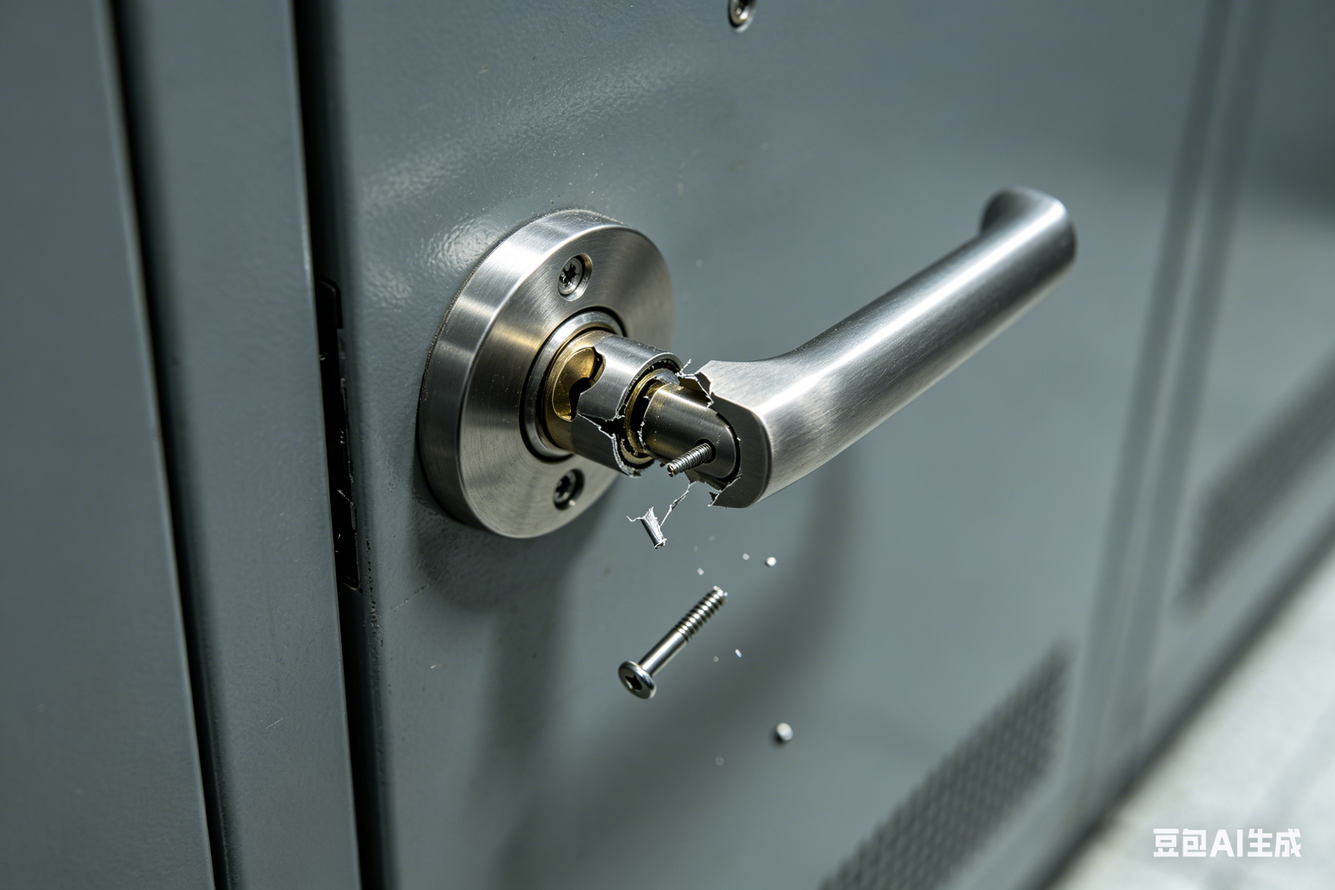BadLock: (597, 337, 727, 511)
